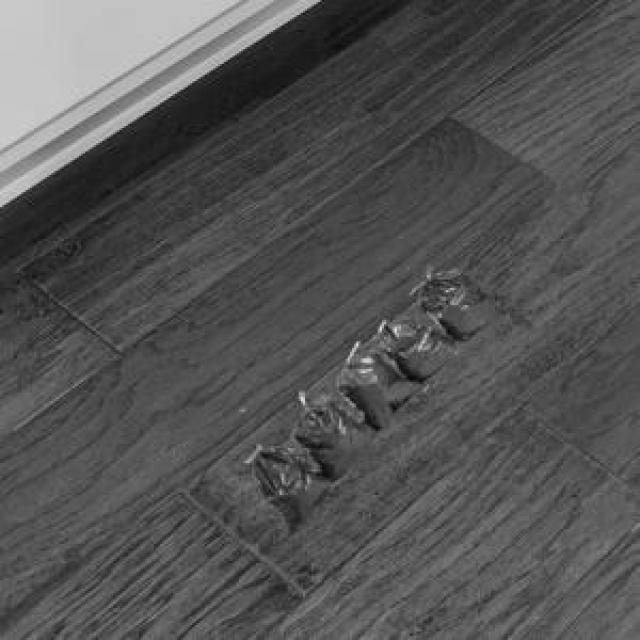miscellaneous trash: (250, 267, 496, 533)
